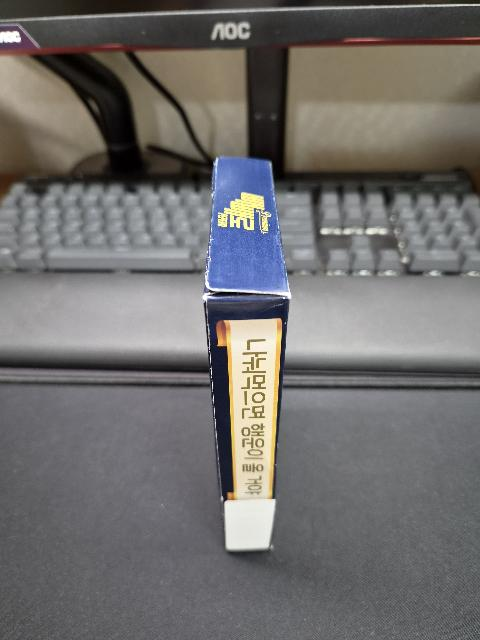pepero: (203, 155, 292, 552)
